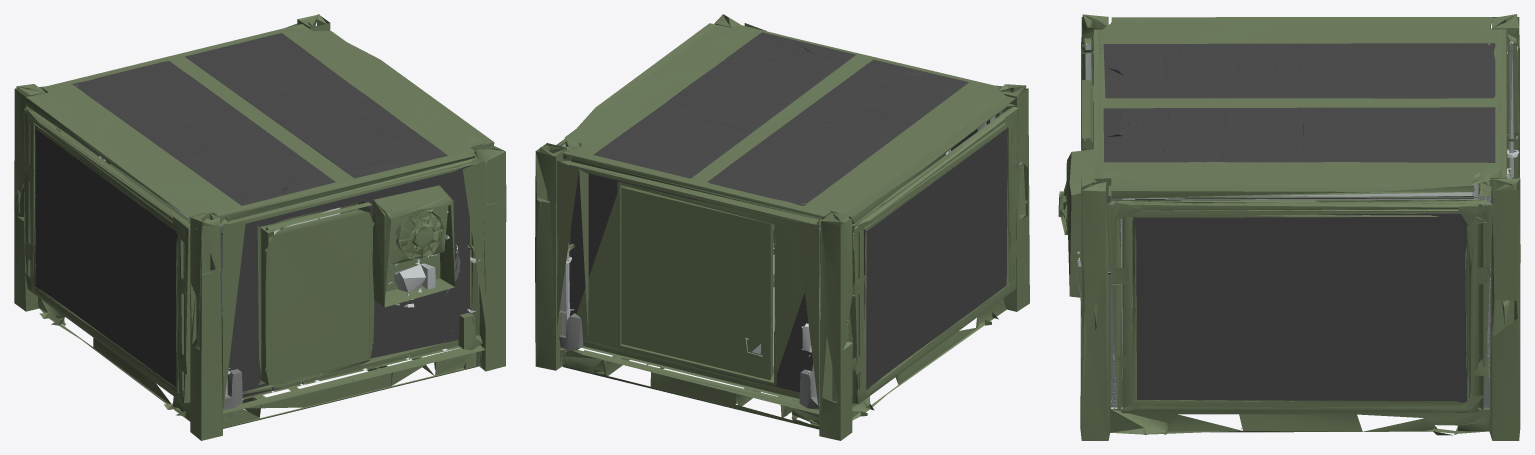
The model's file is trecc-stowed-camp.glb.
The picture shows the model from 3 angles, left to right: view 1: azimuth 30°, elevation 25°; view 2: azimuth 150°, elevation 25°; view 3: azimuth 270°, elevation 25°; orthographic projection. The views are drawn at different scales.
Visible parts, largest first — view 1: Solid2_222; view 2: Solid2_222; view 3: Solid2_222.
Boxes of the visible parts, x1,y1,x2,y2 form: Solid2_222: (14,14,506,440); Solid2_222: (535,14,1029,440); Solid2_222: (1058,14,1520,440).
Bounding box in the file's own units: 2.16 × 1.45 × 2.39.
